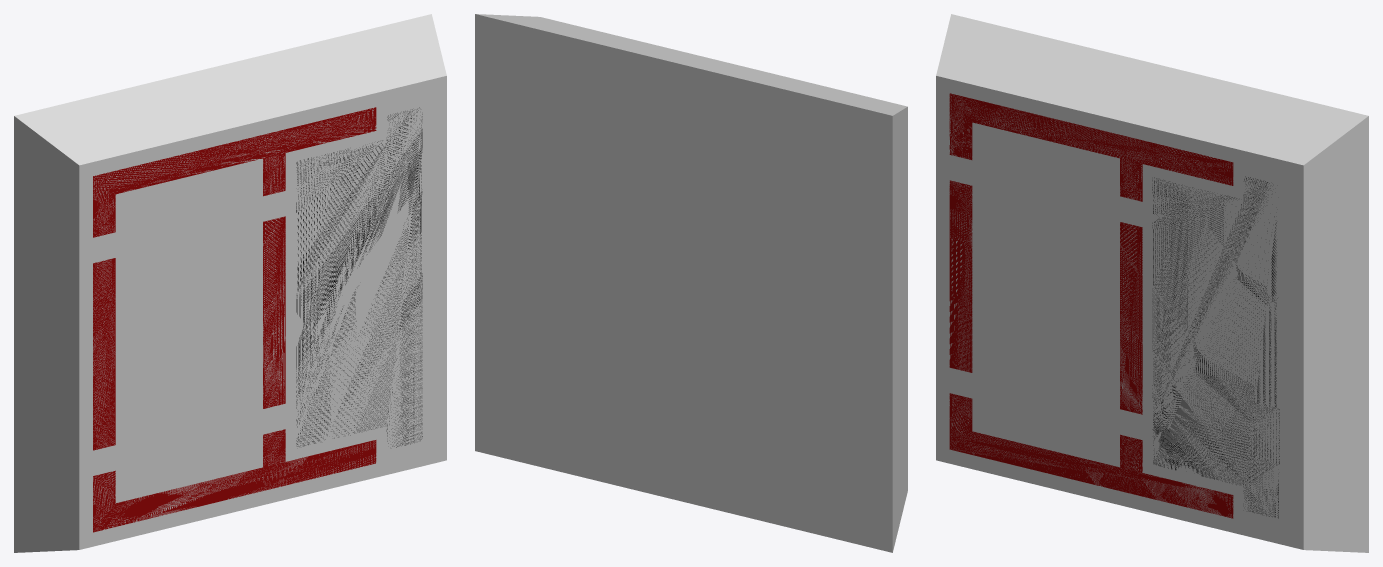
Rendered from scifi_semiotic_s_bulkhead_door.fbx.
The picture shows the model from 3 angles, left to right: view 1: azimuth 30°, elevation 25°; view 2: azimuth 150°, elevation 25°; view 3: azimuth 330°, elevation 25°; orthographic projection.
Parts seen in each view (by area): view 1: Model; view 2: Model; view 3: Model.
Part boxes in pixels (x1,y1,x2,y2): Model: [14, 14, 446, 552]; Model: [475, 14, 907, 552]; Model: [936, 14, 1368, 552].
Bounding box in the file's own units: 57.94 × 57.94 × 9.66.
